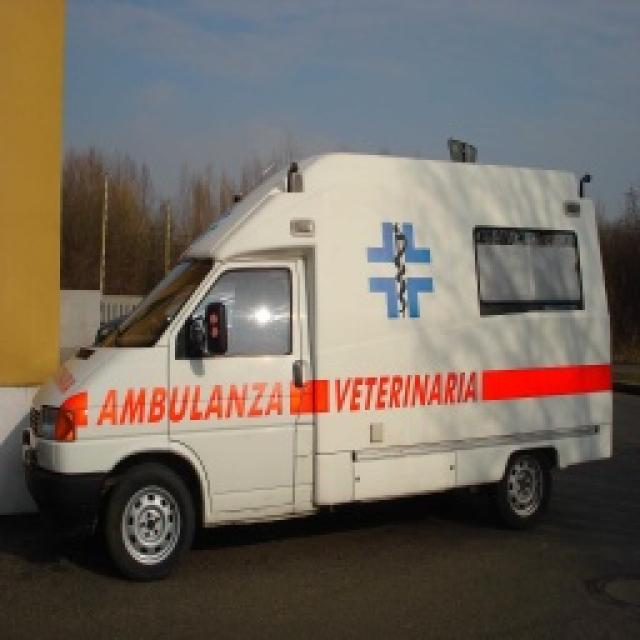emergency-vehicle: (10, 95, 640, 635)
